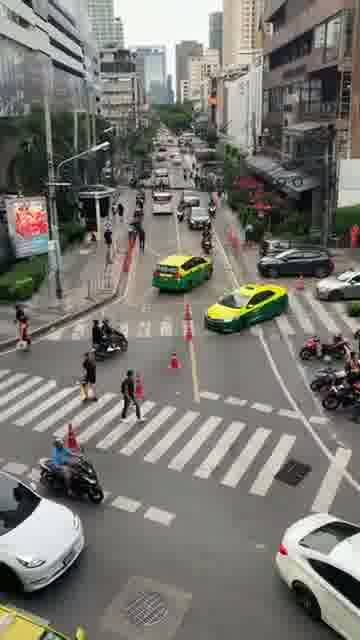bike: (39, 447, 103, 505), (310, 353, 359, 391), (298, 329, 351, 361), (321, 374, 359, 411), (88, 326, 128, 361), (199, 225, 212, 254), (176, 199, 185, 222), (207, 199, 216, 218)
car: (275, 511, 360, 640), (0, 467, 85, 595), (203, 280, 288, 334), (255, 244, 334, 279), (151, 250, 214, 292), (314, 268, 360, 301), (151, 191, 176, 215), (187, 206, 211, 230), (180, 190, 200, 206)
pedestrian: (119, 367, 145, 424), (79, 351, 98, 402), (13, 304, 32, 353), (243, 219, 256, 248), (87, 224, 97, 250), (101, 227, 113, 248), (137, 225, 145, 251), (218, 191, 226, 208), (111, 202, 117, 224), (117, 202, 123, 223)
